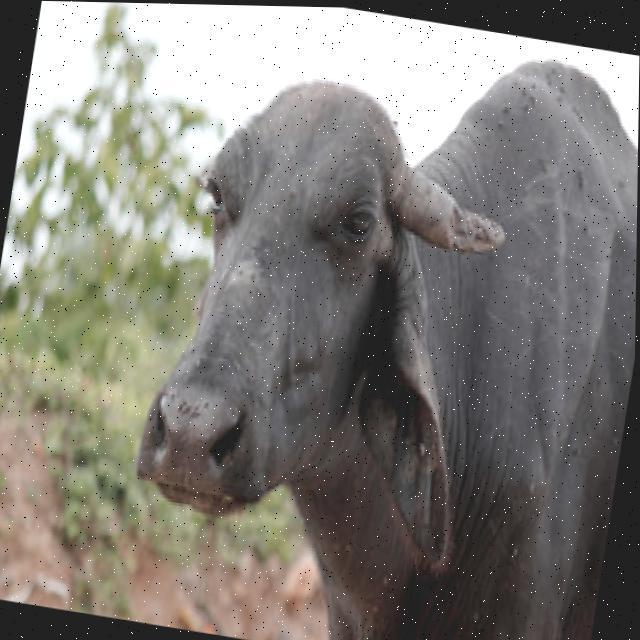Buffalo: (109, 3, 640, 640)
